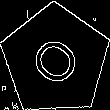O_SE: (24, 28, 87, 92)
